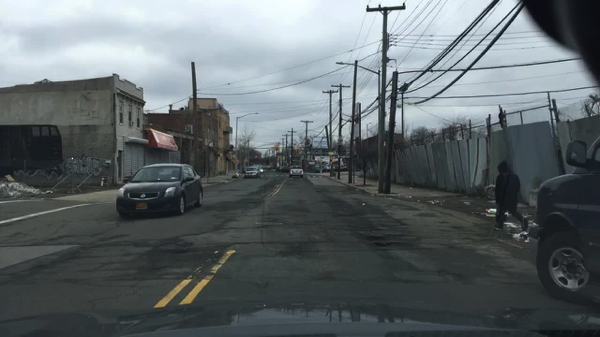car: (527, 136, 598, 303), (117, 162, 203, 217), (243, 167, 259, 178), (289, 166, 303, 177), (314, 165, 323, 172), (323, 164, 332, 171), (281, 167, 287, 172), (259, 168, 263, 173), (275, 167, 280, 170), (266, 166, 271, 169)
person: (492, 160, 527, 233)
traffic light: (275, 145, 278, 152), (296, 146, 298, 152)
traffic sign: (327, 152, 333, 155)
truck: (0, 125, 62, 176)
